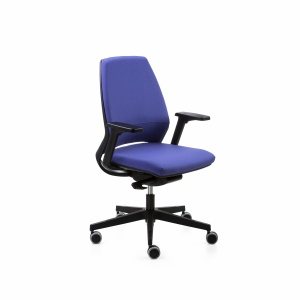chair: (89, 56, 219, 259)
